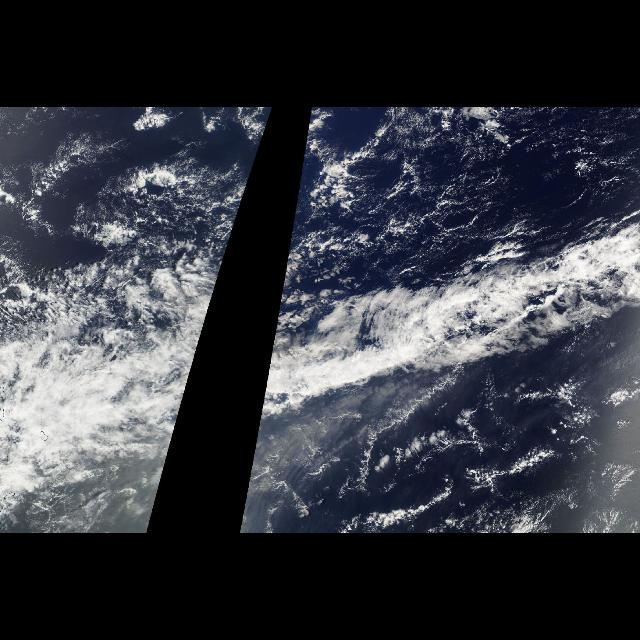Fish: (292, 266, 640, 528)
Gravel: (325, 126, 501, 244)
Sugar: (85, 176, 242, 254)
